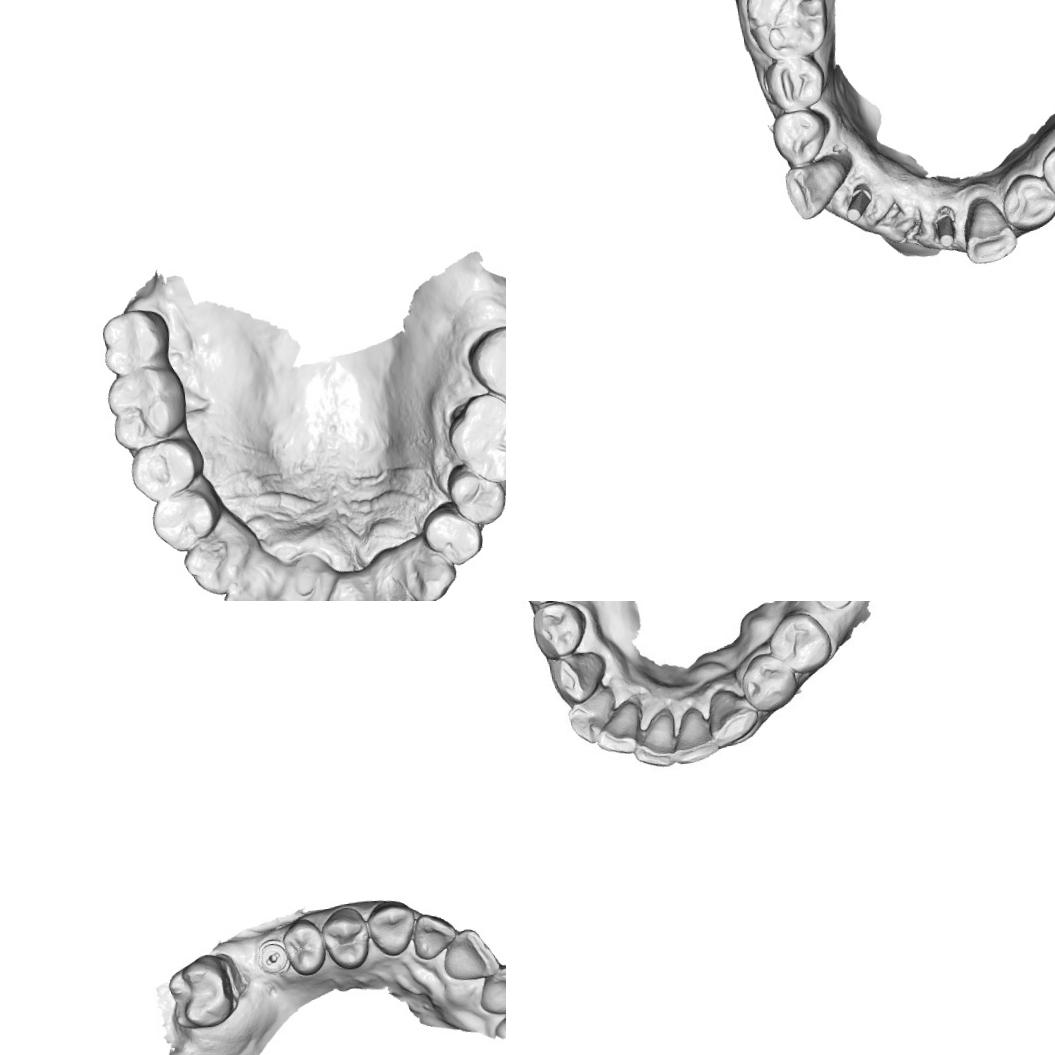abutment: (930, 211, 962, 253), (841, 187, 873, 225)
canine: (178, 513, 256, 598), (782, 154, 854, 222), (958, 192, 1020, 266), (397, 530, 460, 601), (706, 686, 762, 753), (544, 652, 606, 709), (364, 897, 418, 959)
implant: (815, 601, 855, 612)
implant_minus: (256, 937, 293, 976)
incisor: (218, 546, 287, 601), (440, 925, 502, 983), (668, 702, 720, 768), (565, 686, 618, 748), (628, 710, 679, 772), (594, 699, 642, 762), (412, 910, 458, 962), (313, 571, 381, 601), (369, 564, 421, 601), (474, 960, 506, 1018), (260, 587, 325, 601)
molar: (104, 362, 191, 454), (164, 950, 242, 1032), (443, 389, 506, 489), (739, 0, 834, 64), (99, 306, 174, 379), (465, 320, 506, 417)
premolar: (146, 480, 226, 556), (124, 434, 207, 504), (418, 498, 486, 568), (758, 50, 828, 118), (765, 608, 833, 676), (443, 458, 506, 528), (737, 647, 800, 716), (769, 107, 833, 171), (525, 601, 592, 660), (318, 904, 373, 973), (999, 168, 1055, 232), (279, 916, 328, 979), (1038, 139, 1055, 204)
